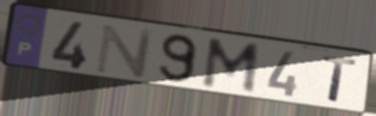4: (49, 18, 92, 72), (265, 50, 300, 98)
9: (156, 32, 200, 85)
M: (199, 37, 263, 98)
N: (92, 22, 157, 79)
T: (321, 54, 360, 106)
